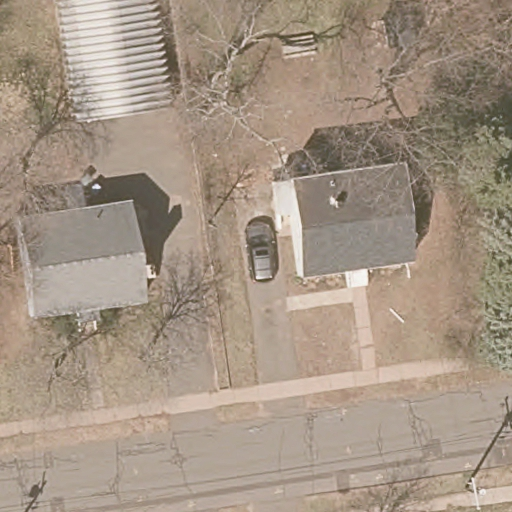DT: (467, 476, 486, 512)
